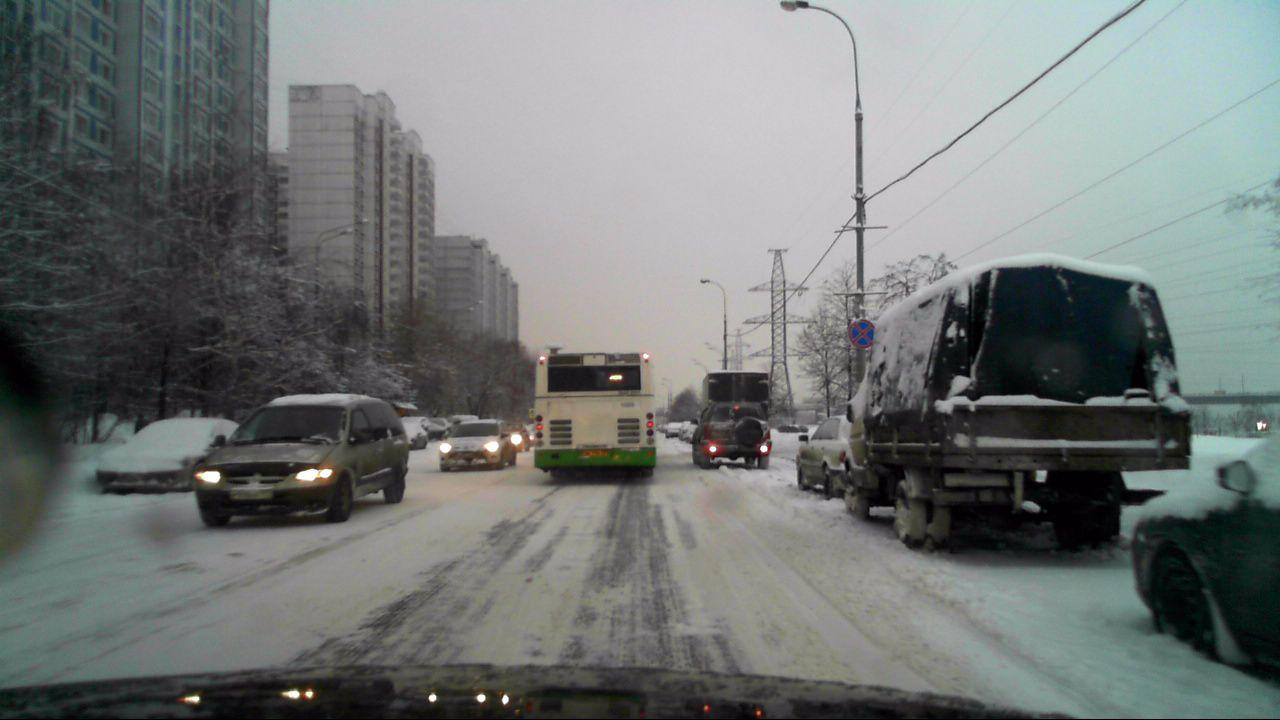road_sign: (850, 316, 875, 347)
